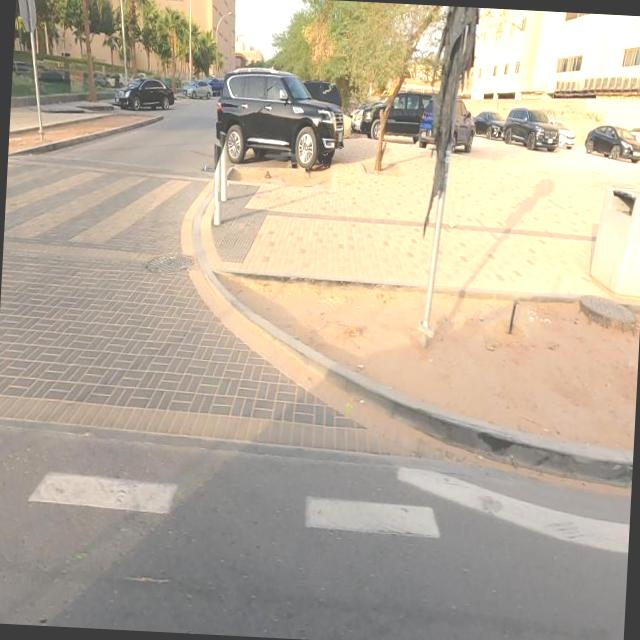debris: (385, 4, 509, 309)
